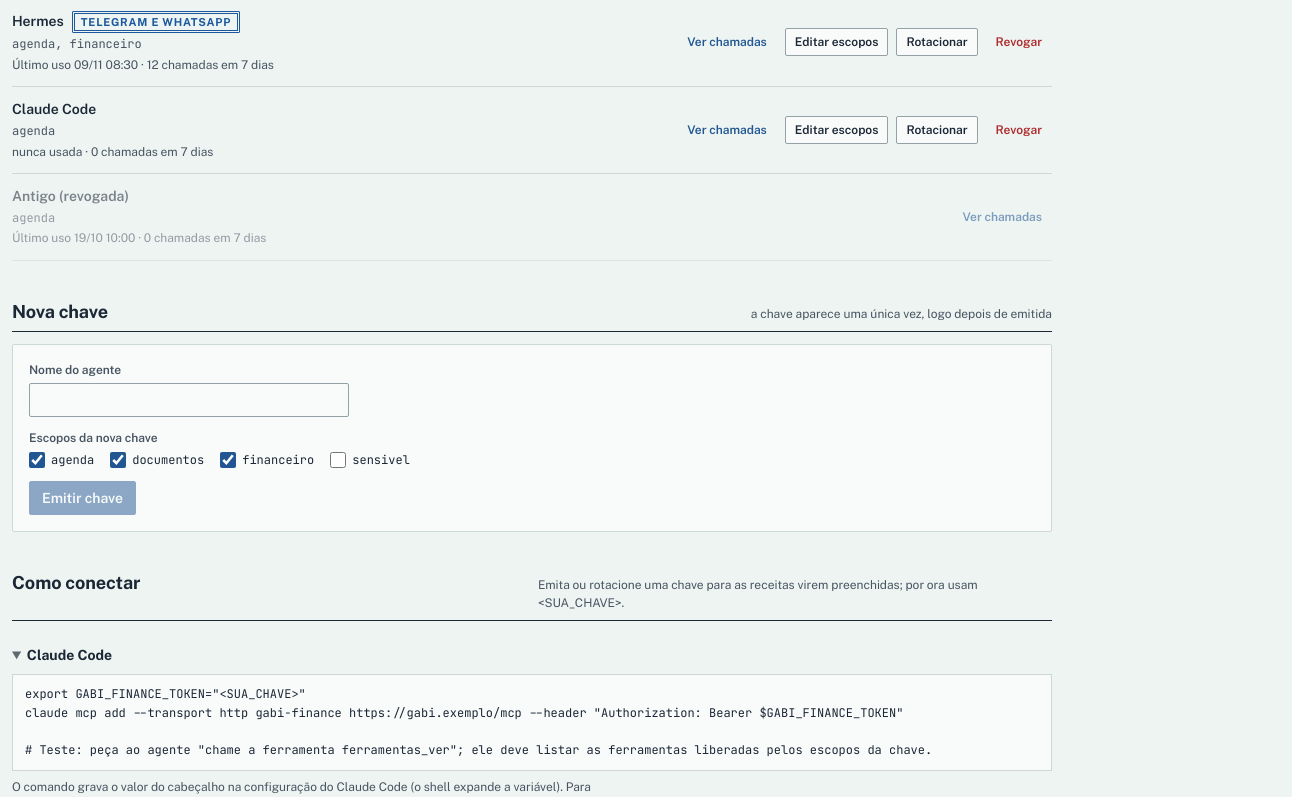
Copiada não passa para a chave seguinte
This screenshot has width=1292, height=797.
(page scrolled)
Expected: the text "Hermes" is shown, [12,12,64,32]
Type "Novo" into the field labelled "Nome do agente" at point(189, 400), box [29,383,349,417]
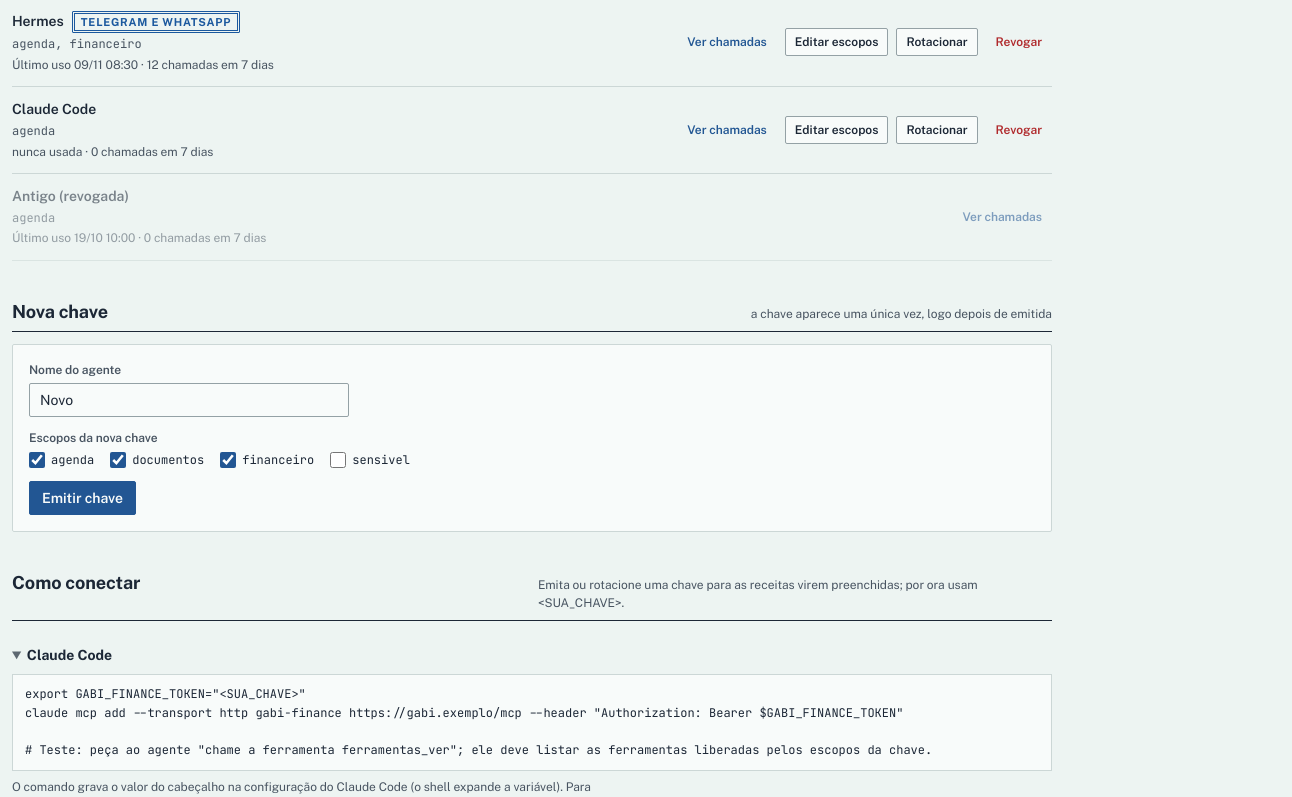
Click the button "Emitir chave" at point(83, 498), box [29,481,136,515]
(page scrolled)
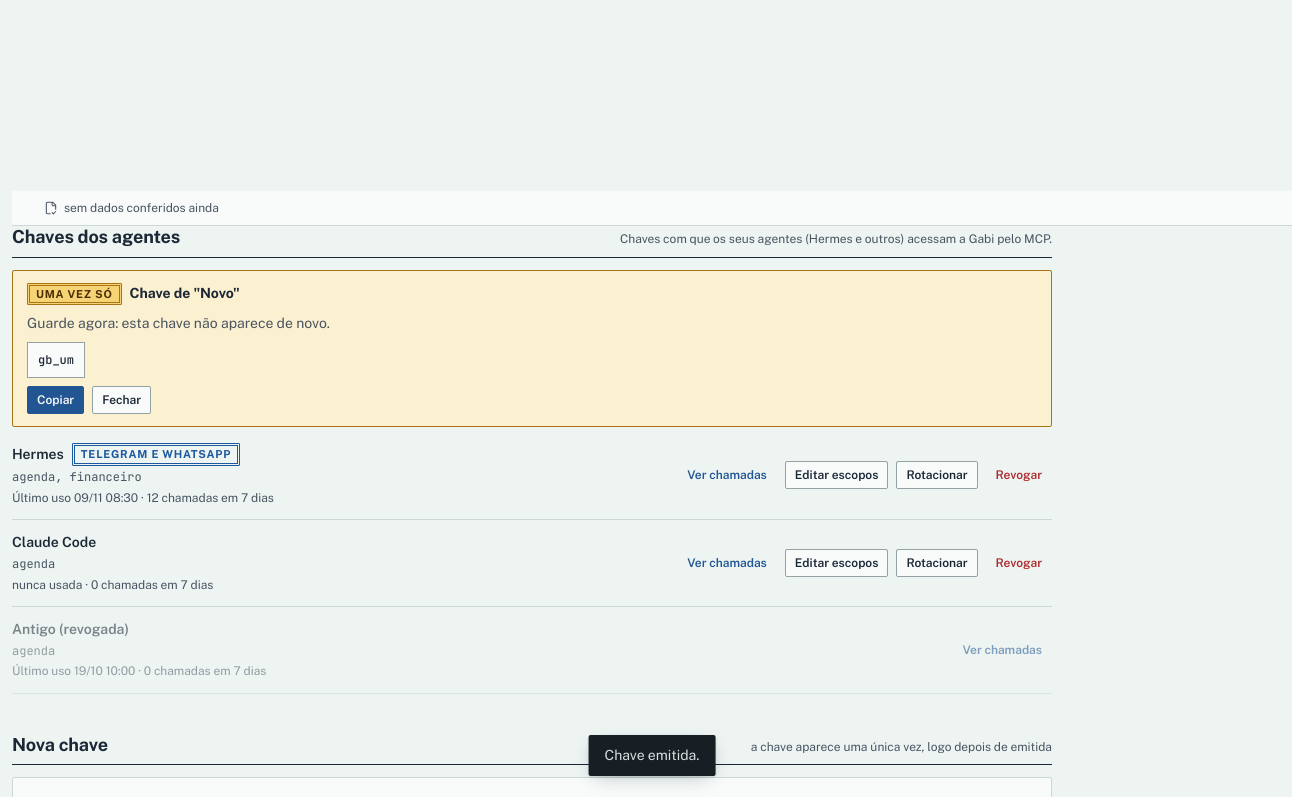
Result: the text "gb_um" is shown at [27,342,85,378]
Click the button with aria-label "Copiar chave" at point(56, 400), box [27,386,84,414]
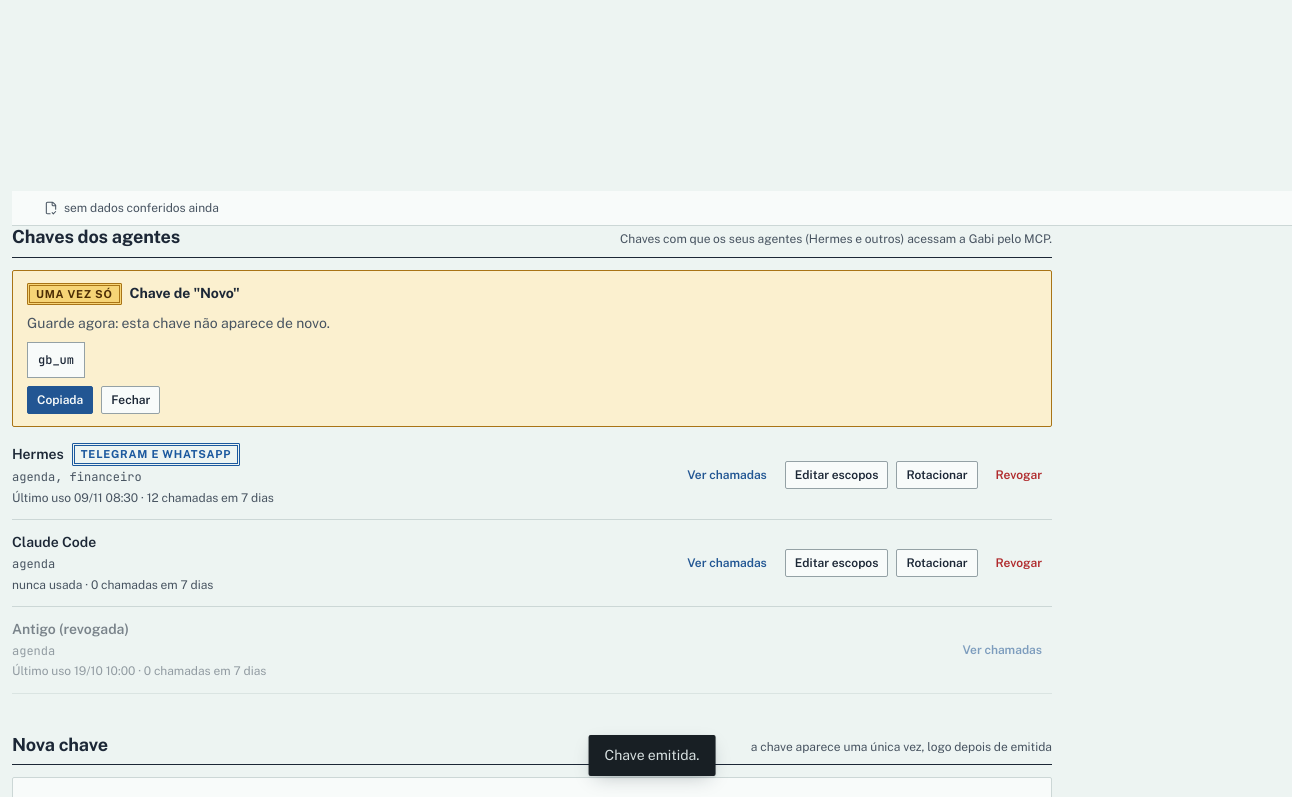
Result: the button "Copiada" is shown at [27,386,93,414]
Click the button with aria-label "Rotacionar Claude Code" at point(937, 563), box [896,549,978,577]
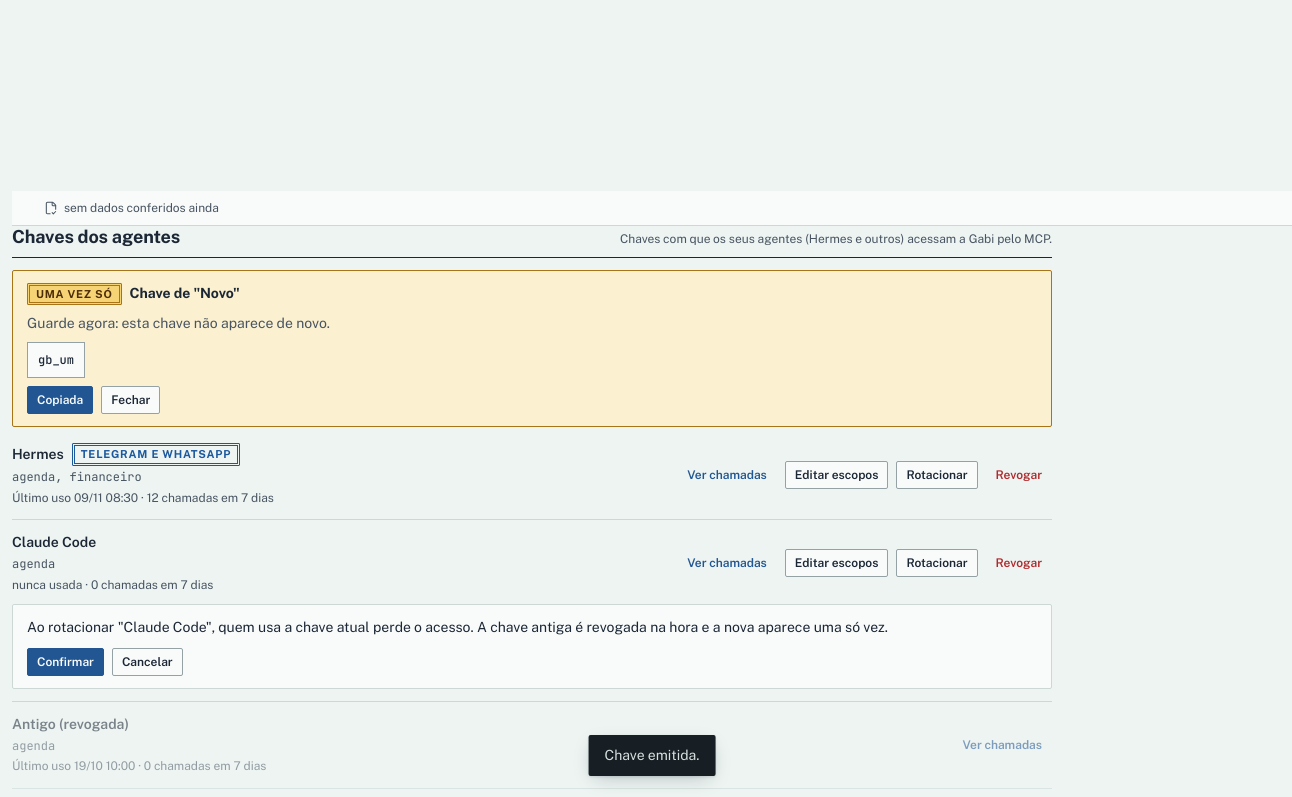
Click the button with aria-label "Confirmar rotacionar Claude Code" at point(65, 662), box [27,648,104,676]
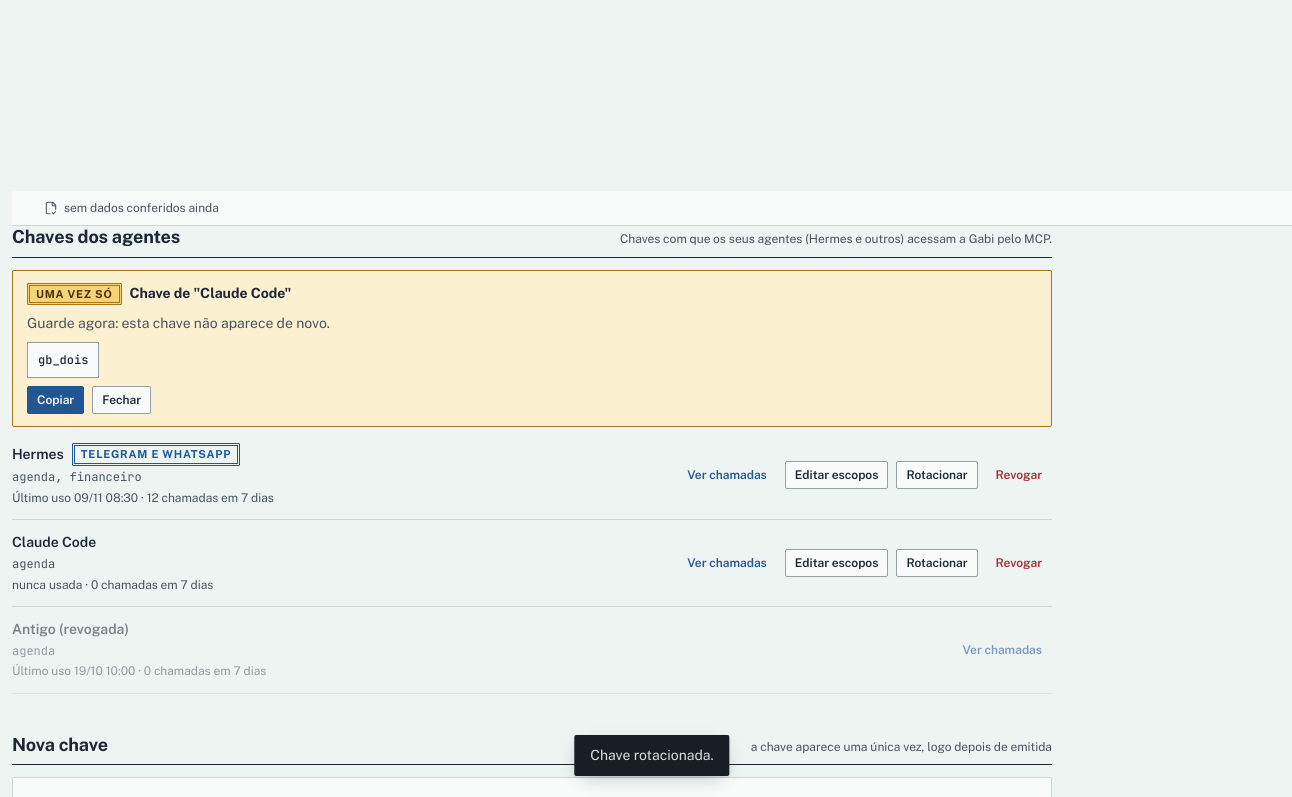
Result: the text "gb_dois" is shown at [27,342,99,378]
Result: the button "Copiada" is gone
